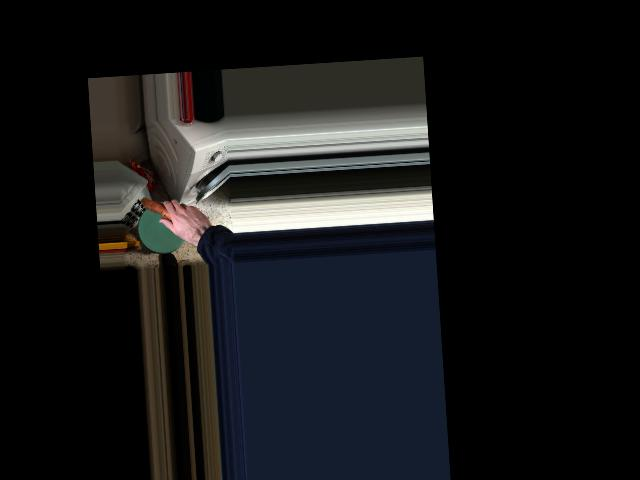sweet_potato: (142, 194, 195, 235)
